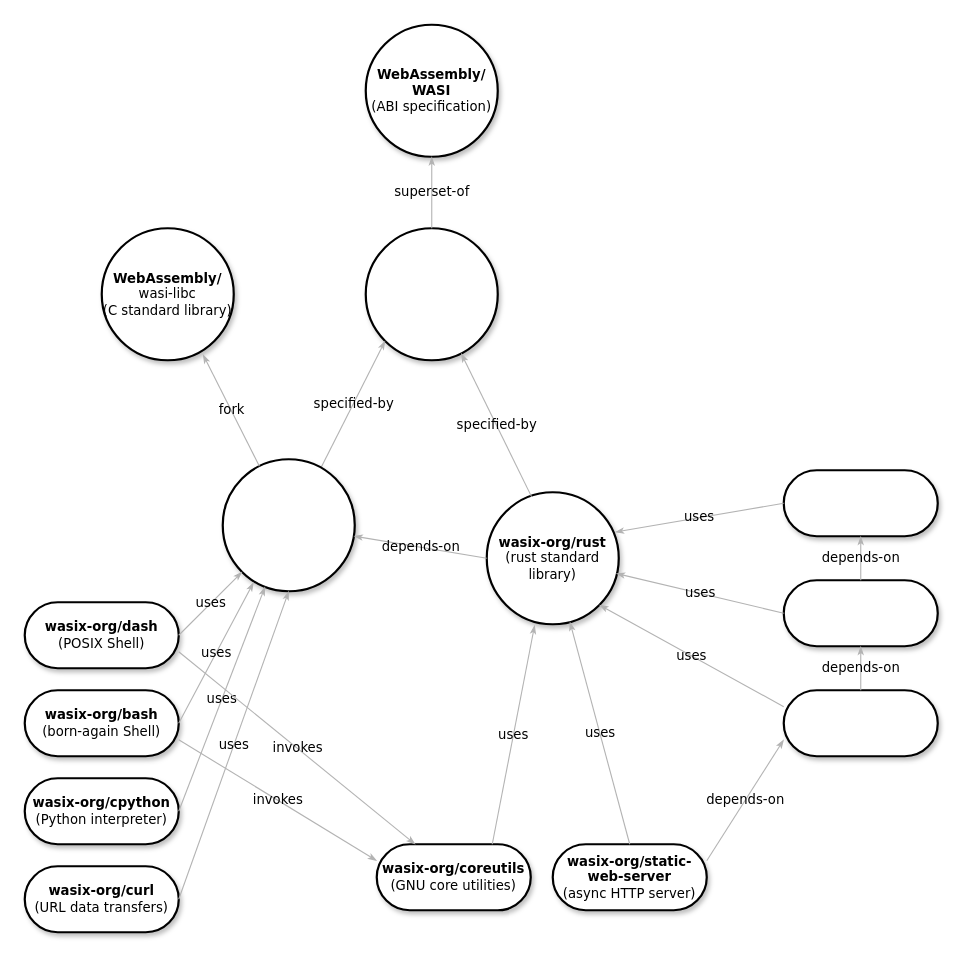
Image size: 964x959. Some labels were removed from this diagram. Each missing label, with the centre of its shape:
"wasix-org/mio (non-blocking IO)" goes at (861,614).
"wasix-org/socket2 (socket wrapper)" goes at (861,504).
"wasix-org/tokio (non-blocking IO platform)" goes at (861,724).
"wasix-org/wasix-libc (C standard library)" goes at (289,526).
"wasix-org/wasix-witx (ABI specification)" goes at (432,295).
